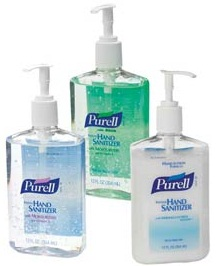Sanitizer: (65, 1, 150, 203), (3, 61, 89, 260), (129, 67, 212, 265)
